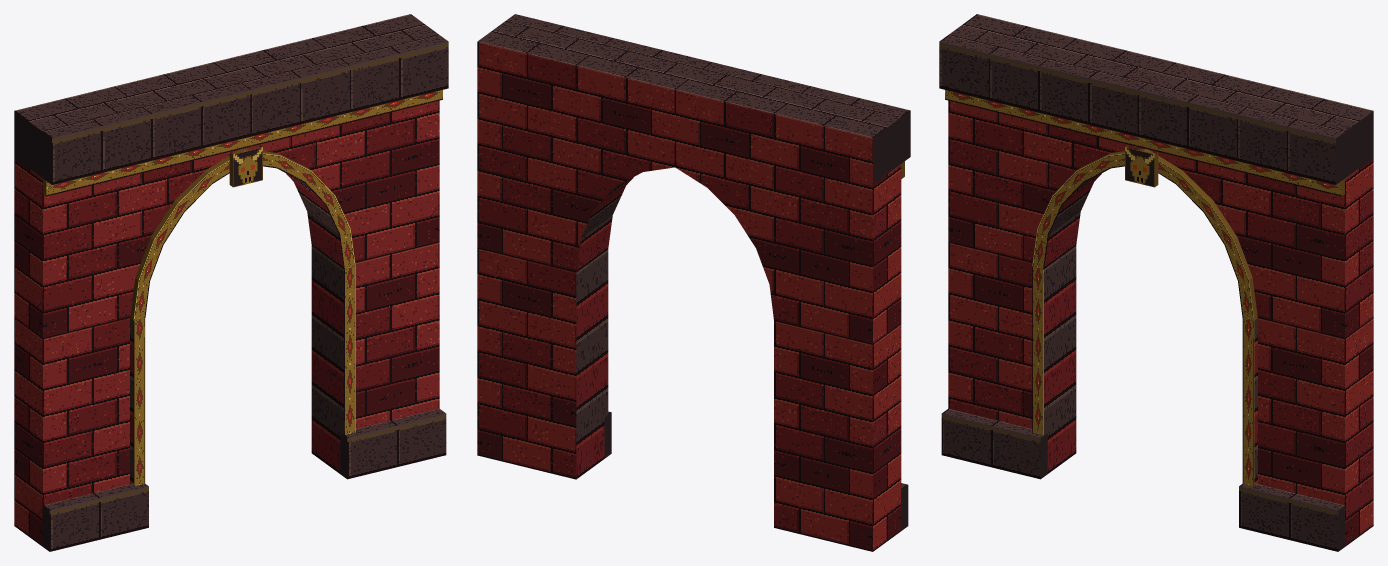
File: ch_doorway_arch.glb
3 views of the same model, side by side, from view 1: azimuth 30°, elevation 25°; view 2: azimuth 150°, elevation 25°; view 3: azimuth 330°, elevation 25° (orthographic).
Visible parts, largest first — view 1: ch_doorway_arch_mesh; view 2: ch_doorway_arch_mesh; view 3: ch_doorway_arch_mesh.
Boxes of the visible parts, box(x1,y1,x2,y2) form: ch_doorway_arch_mesh: box(14, 14, 448, 551); ch_doorway_arch_mesh: box(477, 14, 910, 551); ch_doorway_arch_mesh: box(939, 14, 1373, 551).
Bounding box in the file's own units: 4 × 4 × 0.66.
Materials: 1 (1 with a texture image).
